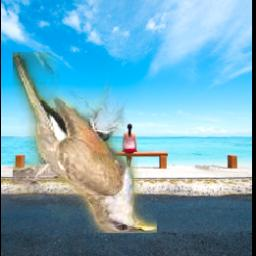Cuckoo: (14, 52, 158, 233)
